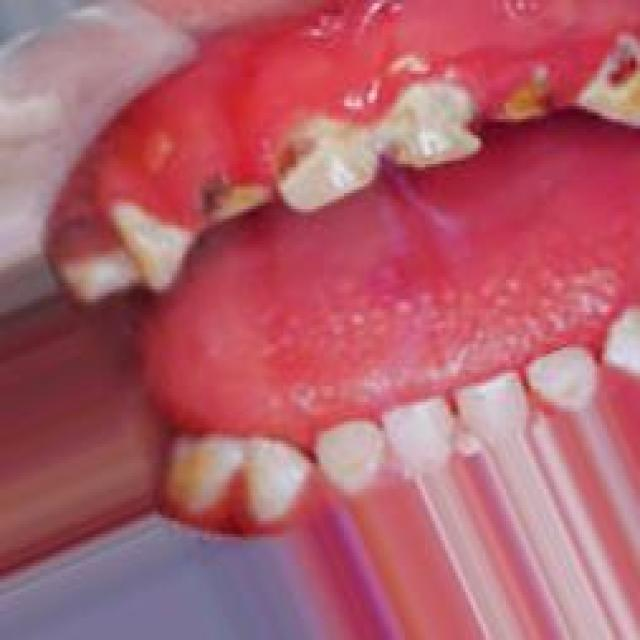caries: (380, 83, 485, 173), (278, 116, 374, 204), (581, 33, 640, 138), (497, 66, 559, 128), (198, 177, 270, 228)
